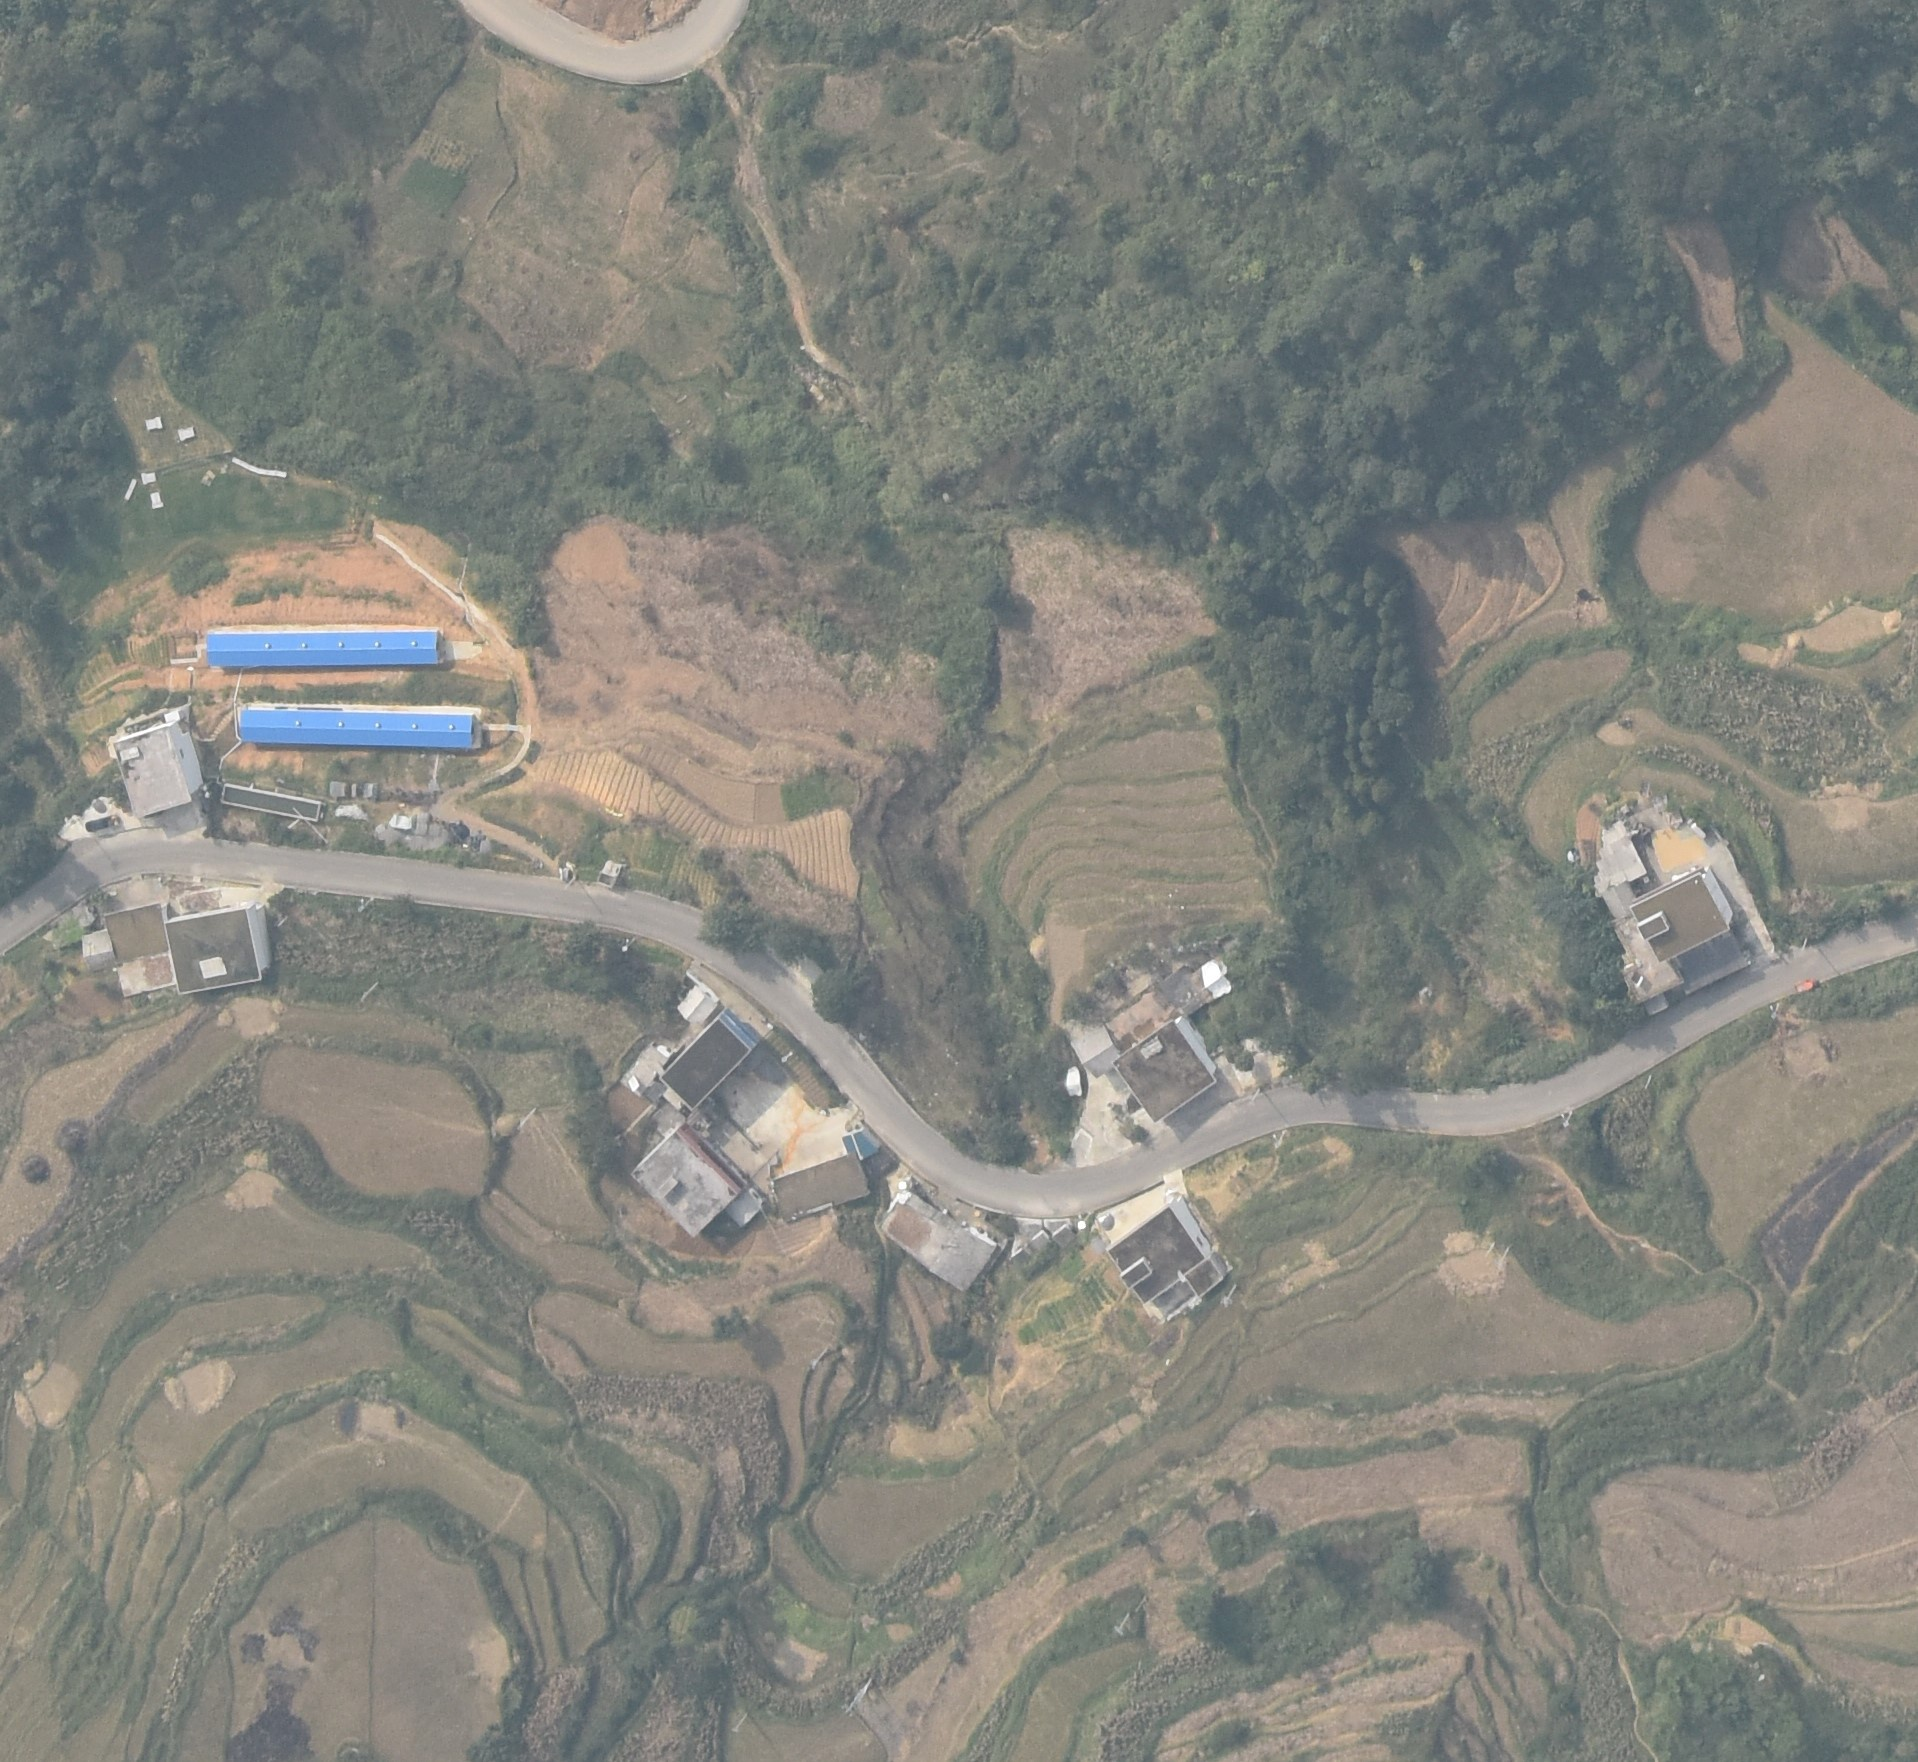building: (1108, 1195, 1232, 1318), (879, 1190, 996, 1293), (630, 1131, 741, 1236), (111, 702, 202, 821), (1110, 1019, 1215, 1122), (161, 902, 273, 995), (1630, 865, 1734, 962), (660, 1010, 757, 1109), (103, 899, 177, 999), (773, 1151, 871, 1221), (1162, 960, 1231, 1018), (1071, 1023, 1121, 1078), (80, 928, 119, 972), (725, 1189, 761, 1224), (843, 1127, 872, 1163)
prefabricated-house: (237, 703, 482, 746), (205, 625, 441, 669), (676, 985, 719, 1023)
vehicle: (1792, 978, 1818, 993), (86, 817, 117, 829)
